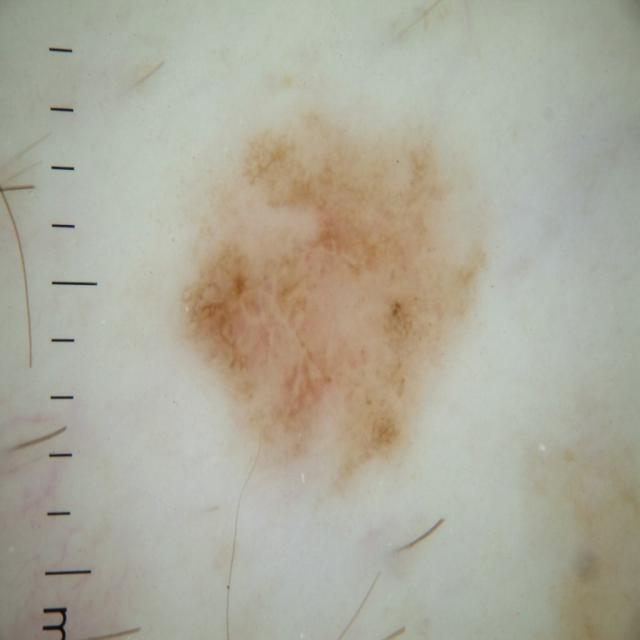Skin-Cancer Melanoma: (104, 43, 556, 634)
